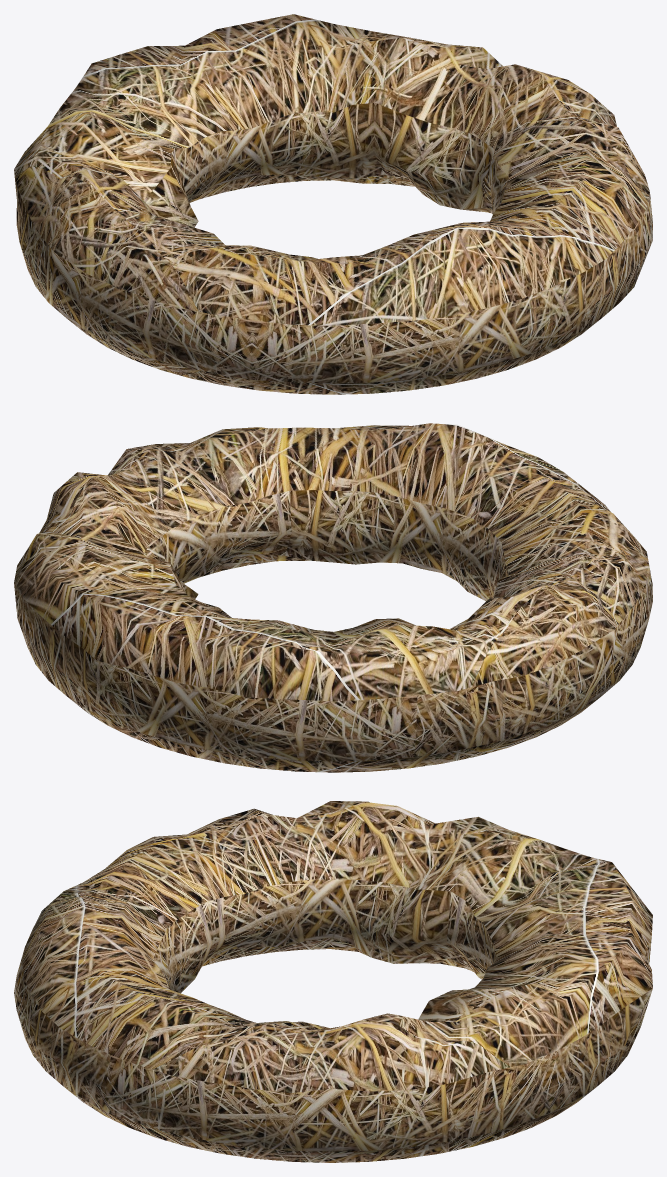
File: nest2.obj
3 views of the same model, one above another, from view 1: azimuth 30°, elevation 25°; view 2: azimuth 150°, elevation 25°; view 3: azimuth 270°, elevation 25° (orthographic).
Visible parts, largest first — view 1: Torus; view 2: Torus; view 3: Torus.
Boxes of the visible parts, x1,y1,x2,y2 form: Torus: (14, 14, 652, 394); Torus: (14, 423, 652, 772); Torus: (14, 801, 652, 1162).
Size of the model in its own units: 2.55 by 0.6273 by 2.52.
